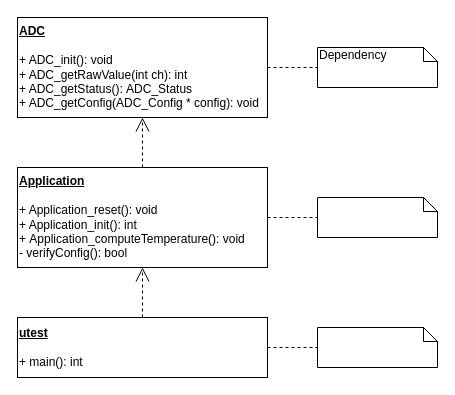
Some shapes in this 455 by 395 pixel diagram are drawn without their labels. Here are the shapes that lost their labels. From the top down, the centre of each, then its label:
pixel 377 217: Code under test
pixel 377 347: Unit tests
